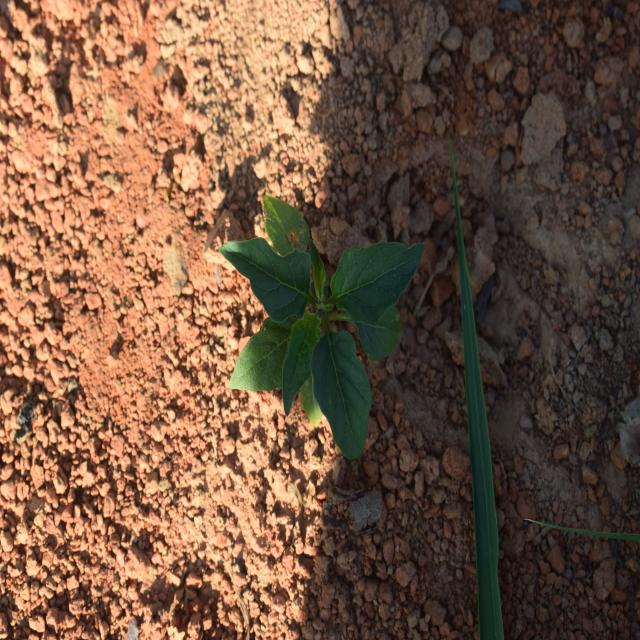Black_nightshade: (232, 174, 423, 471)
